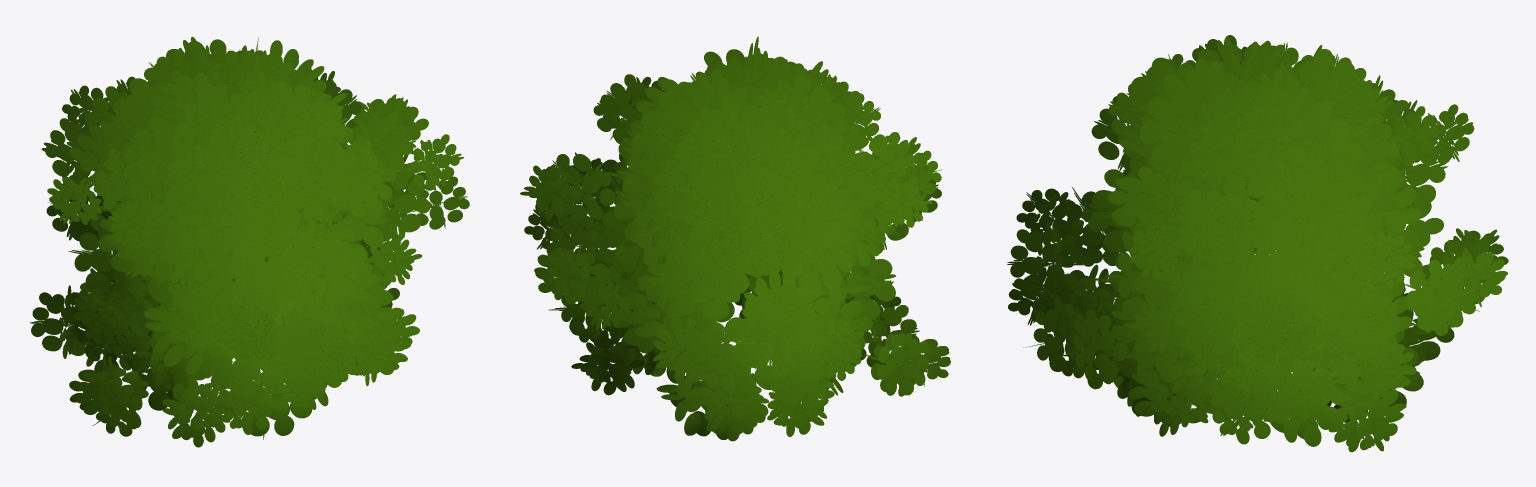
Rendered from Bush_Large.glb.
3 renders of one model, left to right at view 1: azimuth 30°, elevation 25°; view 2: azimuth 150°, elevation 25°; view 3: azimuth 270°, elevation 25°, orthographic. The views are drawn at different scales.
Parts seen in each view (by area): view 1: Bush_Large; view 2: Bush_Large; view 3: Bush_Large.
Boxes of the visible parts, bbox=[...] form: Bush_Large: bbox=[30, 36, 469, 447]; Bush_Large: bbox=[520, 36, 950, 441]; Bush_Large: bbox=[1007, 35, 1508, 452].
Size of the model in its own units: 3.6 by 3.25 by 3.67.
Materials: 1 (1 with a texture image).
